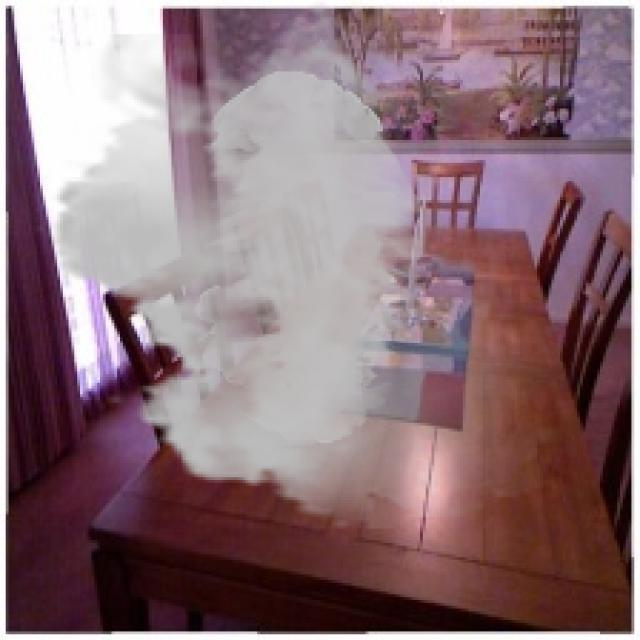Smoke: (31, 0, 578, 529)
